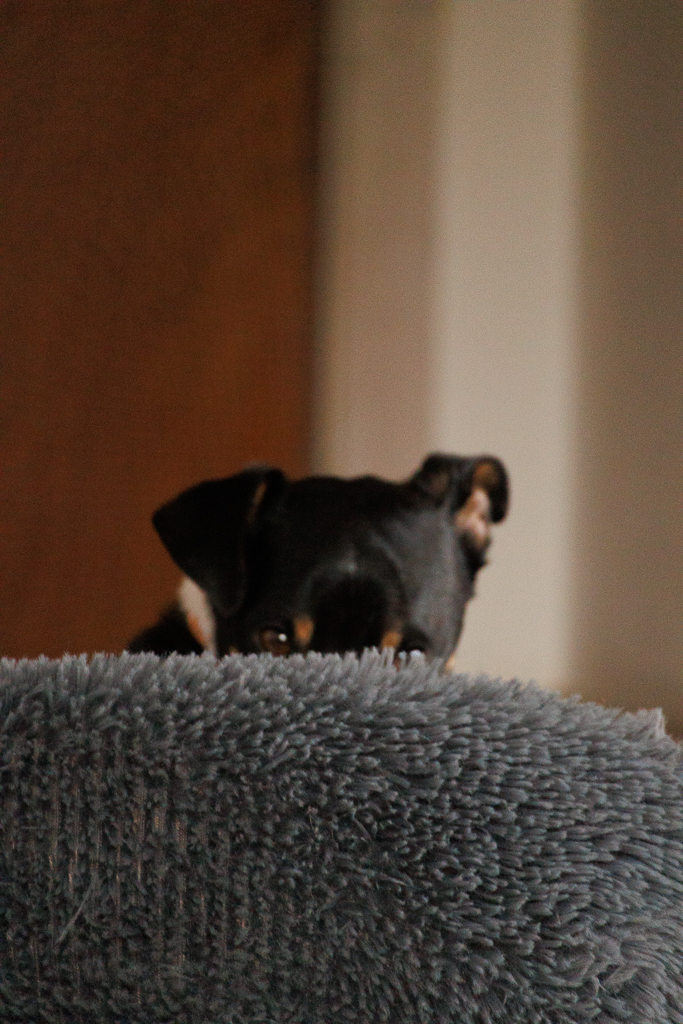Dog: (107, 406, 527, 712)
